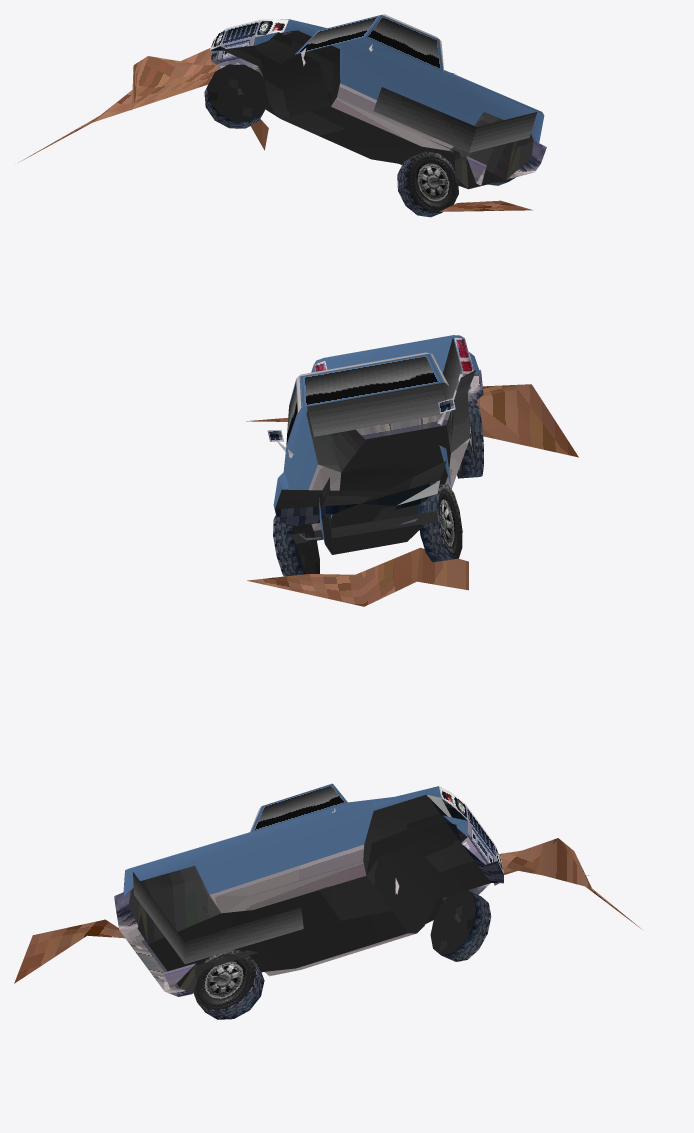
The model's file is ps2_save-icons_hummerbadlands.glb.
3 renders of one model, top to bottom at view 1: azimuth 30°, elevation 25°; view 2: azimuth 150°, elevation 25°; view 3: azimuth 270°, elevation 25°, orthographic. The views are drawn at different scales.
Parts seen in each view (by area): view 1: iconlst.icn; view 2: iconlst.icn; view 3: iconlst.icn.
Boxes of the visible parts, x1,y1,x2,y2 form: iconlst.icn: (18,14,546,217); iconlst.icn: (246,335,578,606); iconlst.icn: (14,783,642,1019).
Bounding box in the file's own units: 3.71 × 1.32 × 4.09.
Materials: 1 (1 with a texture image).
